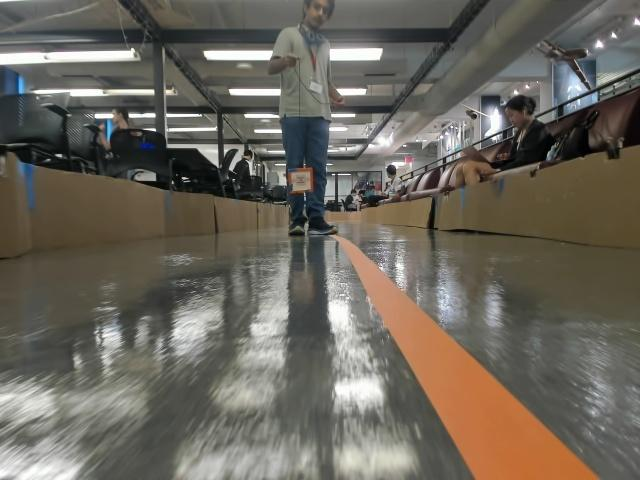Do Not Go Around: (291, 174, 309, 185)
